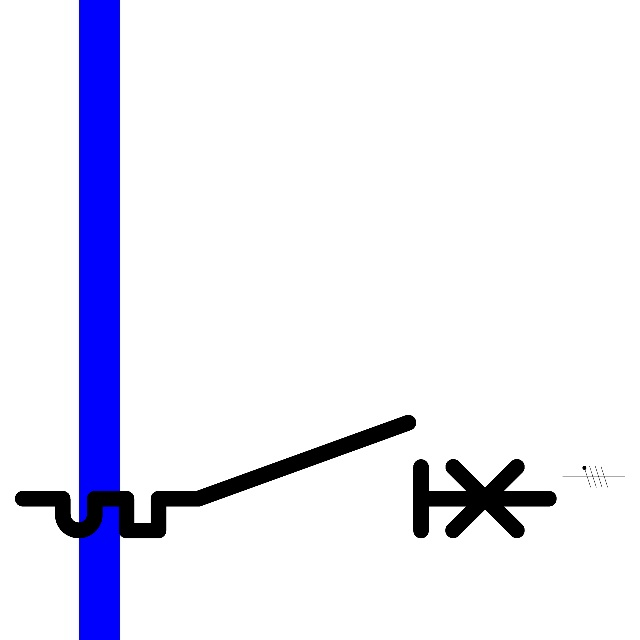interruptor_termomagnetico: (9, 409, 563, 544)
